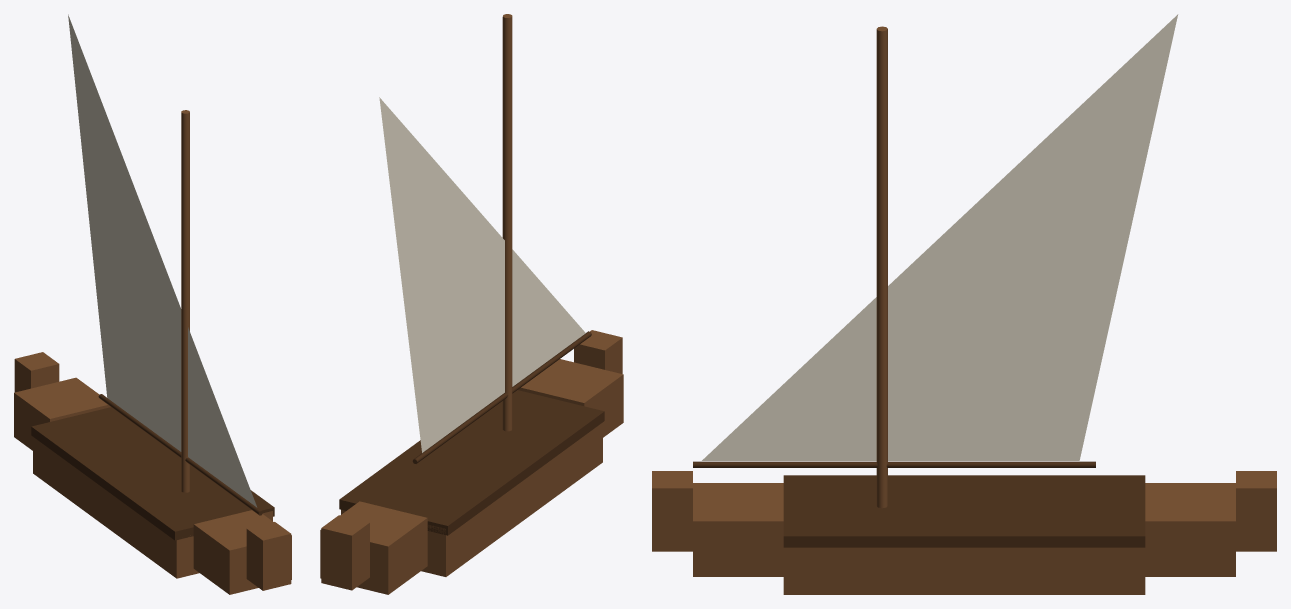
File: eg_felucca.glb
3 renders of one model, left to right at view 1: azimuth 30°, elevation 25°; view 2: azimuth 150°, elevation 25°; view 3: azimuth 270°, elevation 25°, orthographic. The views are drawn at different scales.
Parts seen in each view (by area): view 1: eg_felucca; view 2: eg_felucca; view 3: eg_felucca.
Boxes of the visible parts, bbox=[...] form: eg_felucca: bbox=[14, 14, 291, 594]; eg_felucca: bbox=[320, 14, 623, 594]; eg_felucca: bbox=[652, 14, 1276, 594].
Size of the model in its own units: 1.76 by 7.4 by 7.6.
